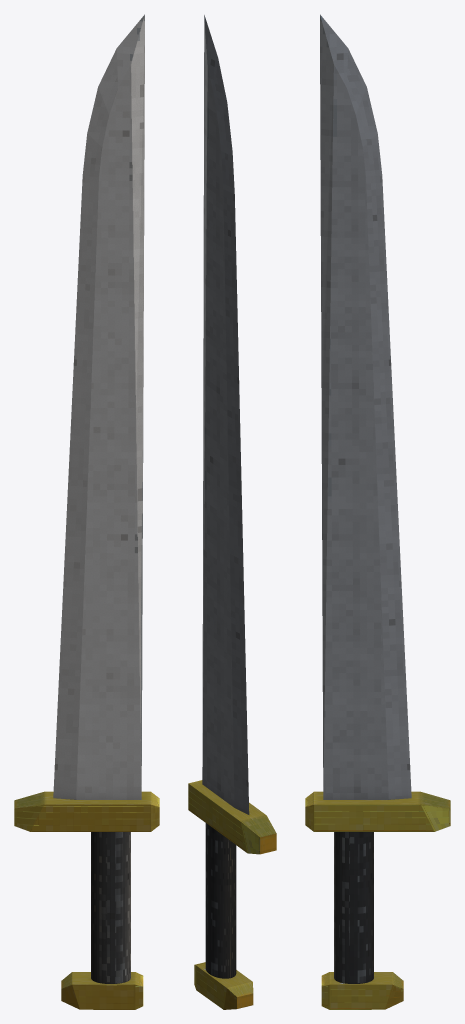
The model's file is sword3.glb.
3 views of the same model, side by side, from view 1: azimuth 90°, elevation 25°; view 2: azimuth 210°, elevation 25°; view 3: azimuth 270°, elevation 25° (orthographic). The views are drawn at different scales.
Parts seen in each view (by area): view 1: Blade; view 2: Blade; view 3: Blade.
Boxes of the visible parts, bbox=[...] form: Blade: bbox=[14, 14, 159, 1009]; Blade: bbox=[188, 15, 276, 1009]; Blade: bbox=[305, 14, 450, 1009].
Size of the model in its own units: 0.0427 by 1.52 by 0.2023.
1 material, 1 textured.
